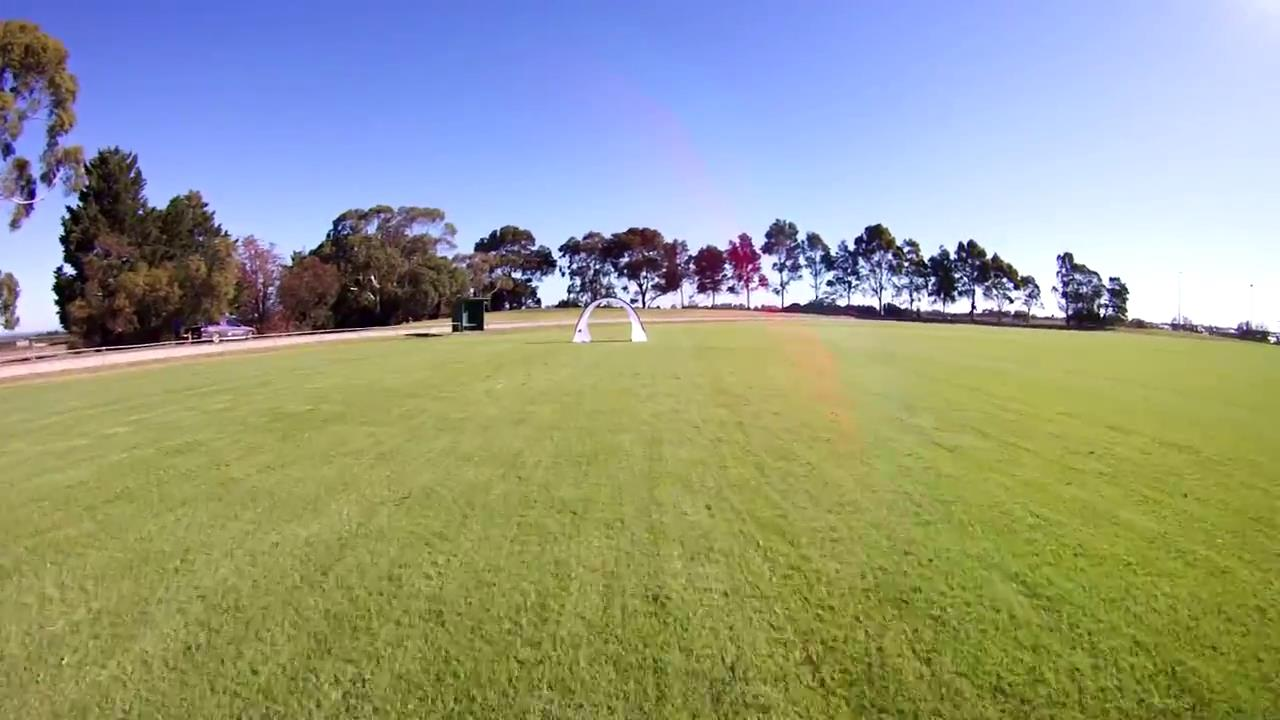gate: (571, 295, 653, 343)
